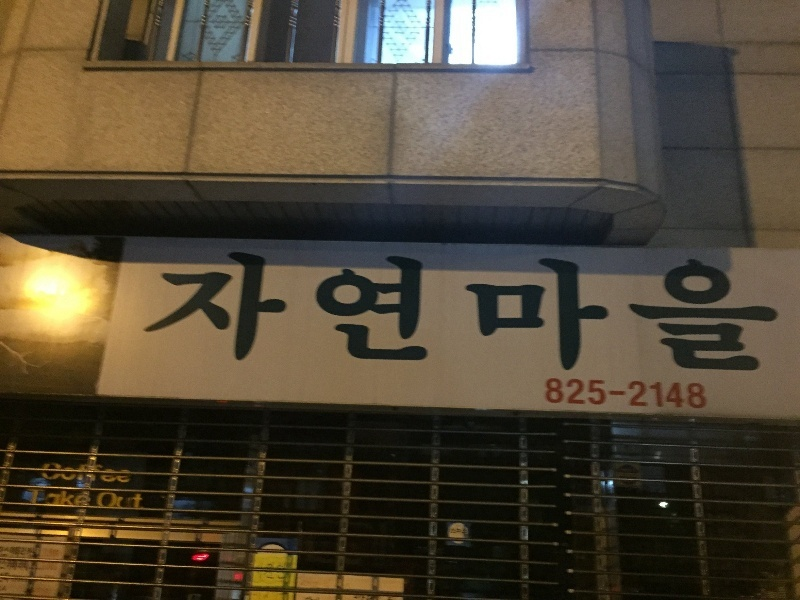text: (161, 245, 176, 375), (177, 245, 192, 375), (193, 245, 208, 375), (209, 245, 224, 375), (225, 245, 240, 375), (241, 245, 256, 375), (257, 245, 272, 375), (273, 245, 288, 375), (289, 245, 304, 375), (305, 245, 320, 375), (321, 245, 336, 375), (337, 245, 352, 375), (353, 245, 368, 375), (369, 245, 384, 375), (385, 245, 400, 375), (401, 245, 416, 375), (417, 245, 432, 375), (433, 245, 448, 375), (449, 245, 464, 375), (465, 245, 480, 375), (481, 245, 496, 375), (497, 245, 512, 375), (513, 245, 528, 375), (529, 245, 544, 375), (545, 245, 560, 375), (561, 245, 576, 375), (577, 245, 592, 375), (593, 245, 608, 375), (609, 245, 624, 375), (625, 245, 640, 375), (641, 245, 656, 375), (657, 245, 672, 375), (673, 245, 688, 375), (689, 245, 704, 375), (705, 245, 720, 375), (721, 245, 736, 375), (737, 245, 752, 375), (753, 245, 768, 375), (769, 245, 781, 375), (545, 378, 560, 412), (561, 378, 576, 412), (577, 378, 592, 412), (593, 378, 608, 412), (609, 378, 624, 412), (625, 378, 640, 412), (641, 378, 656, 412), (657, 378, 672, 412), (673, 378, 688, 412), (689, 378, 704, 412), (49, 461, 64, 485), (65, 461, 80, 485), (81, 461, 96, 485), (97, 461, 112, 485), (113, 461, 128, 485), (33, 488, 48, 509), (49, 488, 64, 509), (65, 488, 80, 509), (129, 491, 145, 509), (97, 491, 112, 509), (113, 491, 128, 509), (158, 245, 160, 375), (81, 488, 91, 509), (705, 378, 710, 412), (41, 461, 48, 485), (27, 488, 32, 509), (129, 461, 132, 485)
